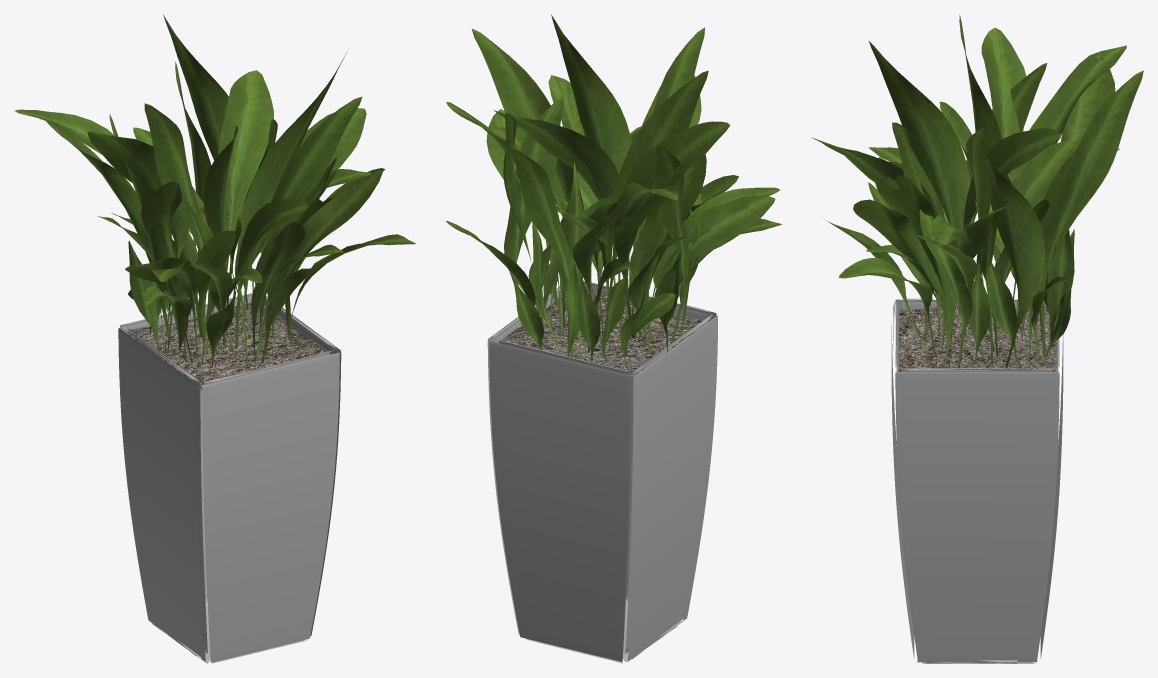
File: tree.glb
3 views of the same model, side by side, from view 1: azimuth 30°, elevation 25°; view 2: azimuth 150°, elevation 25°; view 3: azimuth 270°, elevation 25° (orthographic). The views are drawn at different scales.
Parts seen in each view (by area): view 1: Mesh1_M_06___Defaultdsa_0, Mesh3_grt_0, Mesh2_TEXTURE1_0; view 2: Mesh1_M_06___Defaultdsa_0, Mesh3_grt_0, Mesh2_TEXTURE1_0; view 3: Mesh3_grt_0, Mesh1_M_06___Defaultdsa_0, Mesh2_TEXTURE1_0.
Part boxes in pixels (x1=…): Mesh1_M_06___Defaultdsa_0: x1=118, y1=293, x2=341, y2=663; Mesh3_grt_0: x1=14, y1=14, x2=416, y2=367; Mesh2_TEXTURE1_0: x1=125, y1=302, x2=332, y2=390; Mesh1_M_06___Defaultdsa_0: x1=487, y1=280, x2=717, y2=663; Mesh3_grt_0: x1=446, y1=14, x2=781, y2=365; Mesh2_TEXTURE1_0: x1=497, y1=291, x2=701, y2=376; Mesh3_grt_0: x1=811, y1=14, x2=1143, y2=368; Mesh1_M_06___Defaultdsa_0: x1=891, y1=298, x2=1063, y2=663; Mesh2_TEXTURE1_0: x1=898, y1=306, x2=1056, y2=371.
Bounding box in the file's own units: 0.7545 × 1.4 × 0.7312.
3 materials, 2 textured.
